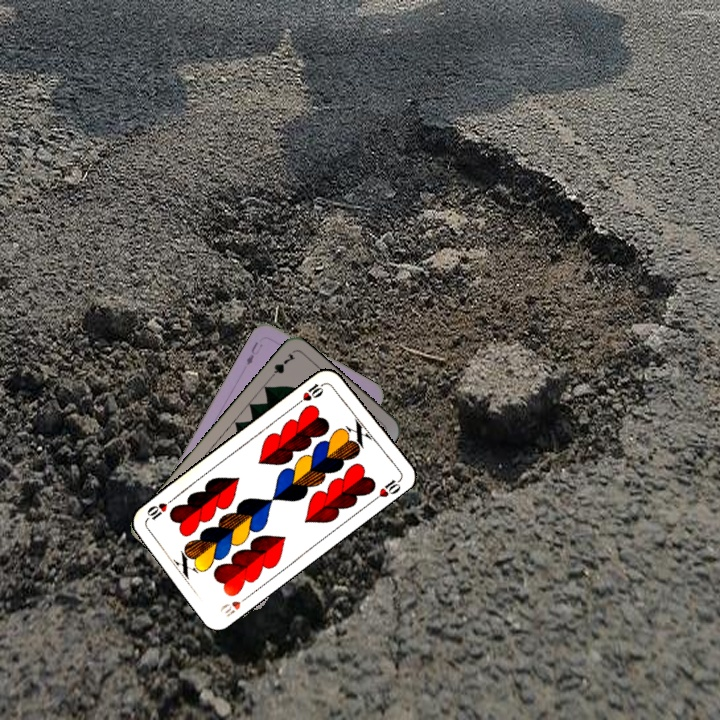EU: (242, 338, 266, 368)
G7: (265, 349, 298, 383)
H10: (216, 590, 253, 619), (293, 378, 329, 407)
